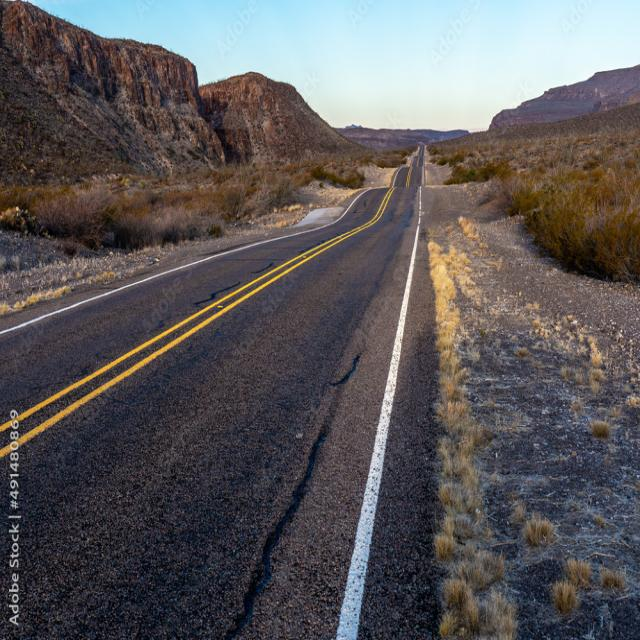Pothole: (210, 223, 640, 629)
